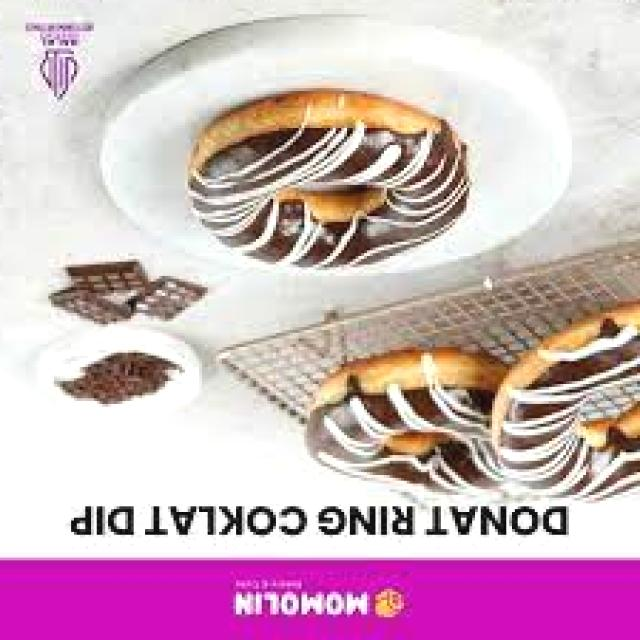donat: (185, 88, 469, 270)
